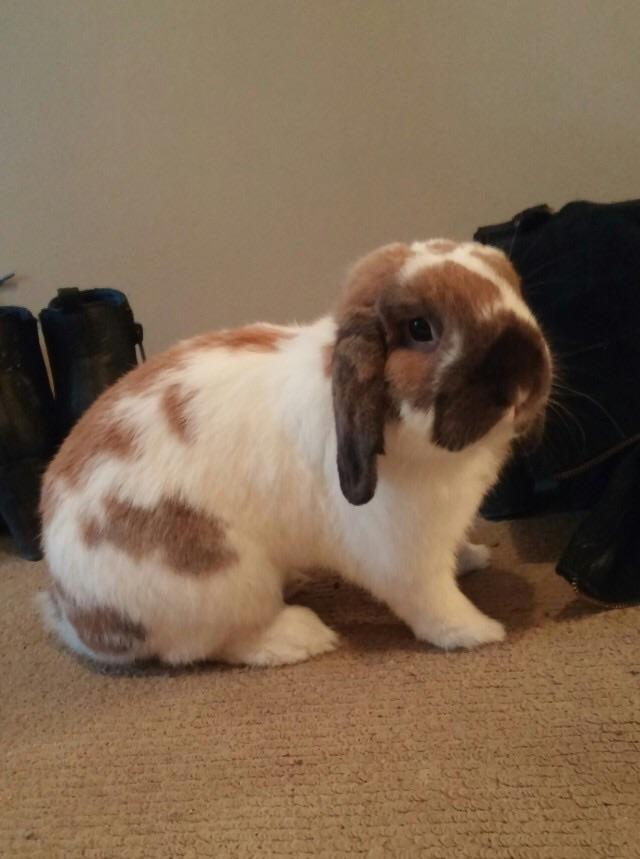bunny: (26, 222, 562, 681)
